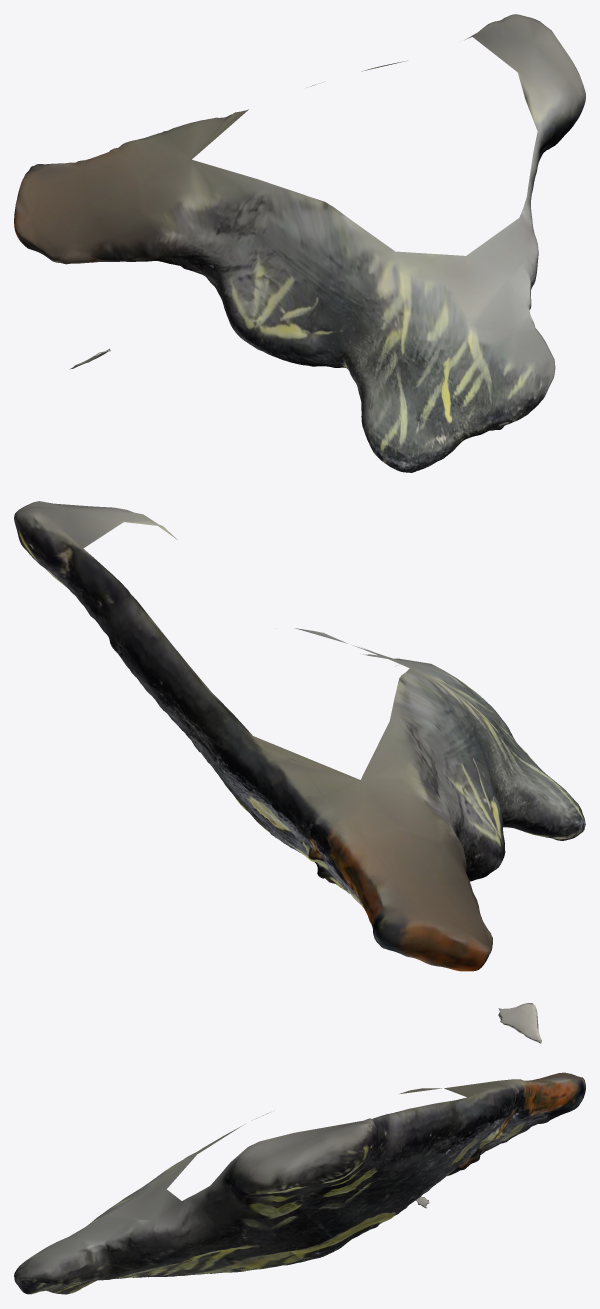
The picture shows the model from 3 angles, top to bottom: view 1: azimuth 30°, elevation 25°; view 2: azimuth 150°, elevation 25°; view 3: azimuth 270°, elevation 25°; orthographic projection. The views are drawn at different scales.
Bounding box in the file's own units: 1.02 × 0.6359 × 1.12.
1 material, 1 textured.
